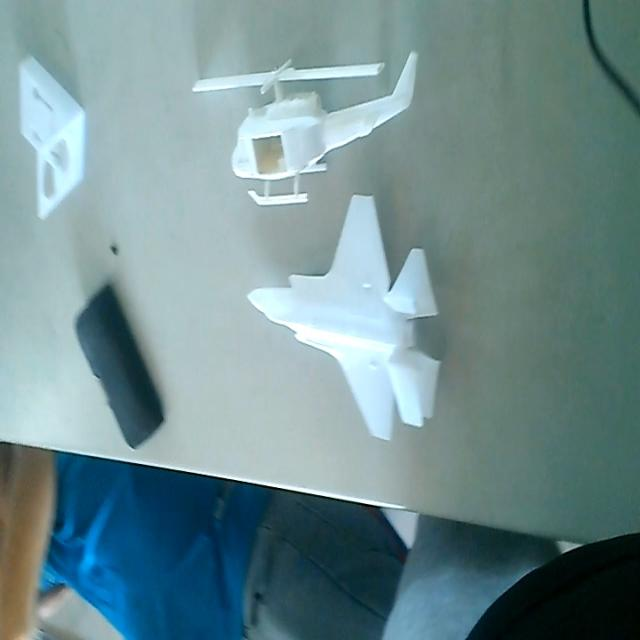Helicopter: (193, 48, 419, 206)
Jet: (247, 195, 442, 441)
